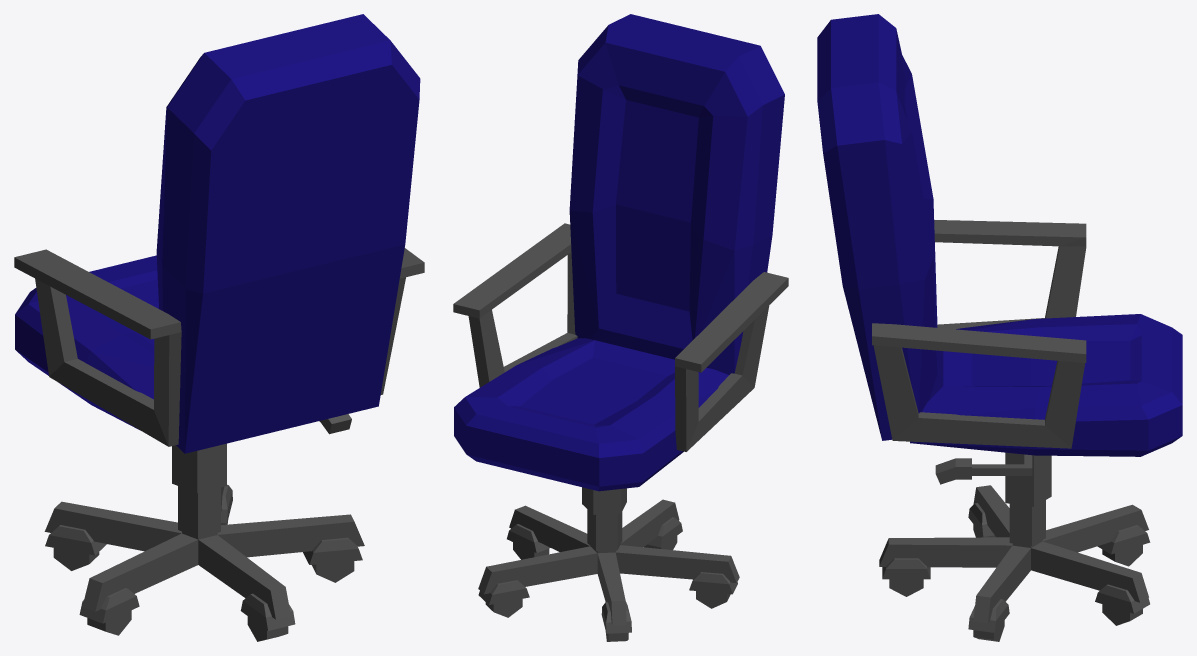
Rendered from silla.fbx.
The picture shows the model from 3 angles, left to right: view 1: azimuth 30°, elevation 25°; view 2: azimuth 150°, elevation 25°; view 3: azimuth 270°, elevation 25°; orthographic projection. The views are drawn at different scales.
Parts seen in each view (by area): view 1: silla; view 2: silla; view 3: silla.
Part boxes in pixels (x1,y1,x2,y2): silla: (14, 14, 424, 641); silla: (453, 14, 788, 641); silla: (817, 14, 1182, 641).
Bounding box in the file's own units: 4.58 × 8.9 × 5.42.
